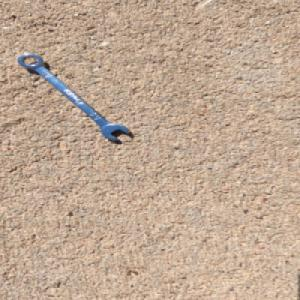Wrench: (16, 53, 131, 141)
